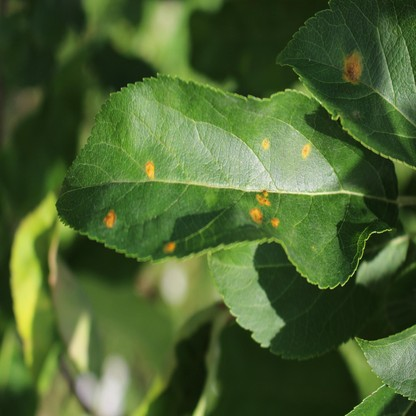rust: (343, 50, 363, 84), (255, 190, 271, 206), (103, 210, 115, 228), (249, 209, 262, 224), (145, 161, 154, 180), (163, 241, 174, 252), (303, 143, 310, 159), (261, 136, 269, 149), (270, 217, 279, 228)
